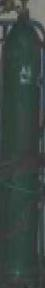cylinder: (1, 1, 45, 288)
